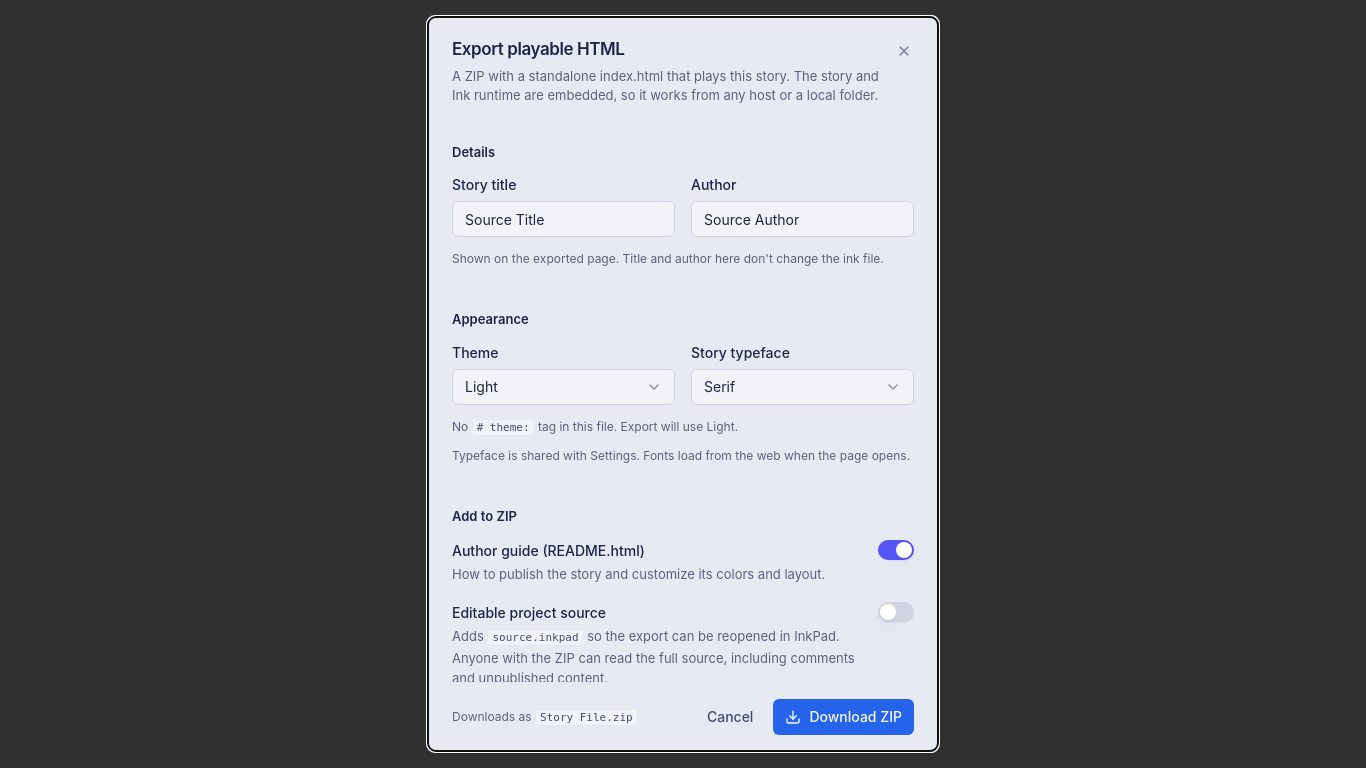
Test: PlayableHtmlExportDialog › shows set file theme button when user changes theme
Expected: the button "Set file theme" is not shown
Click the dropdown named "HTML export theme" at point(564, 386), box [452,368,675,404]
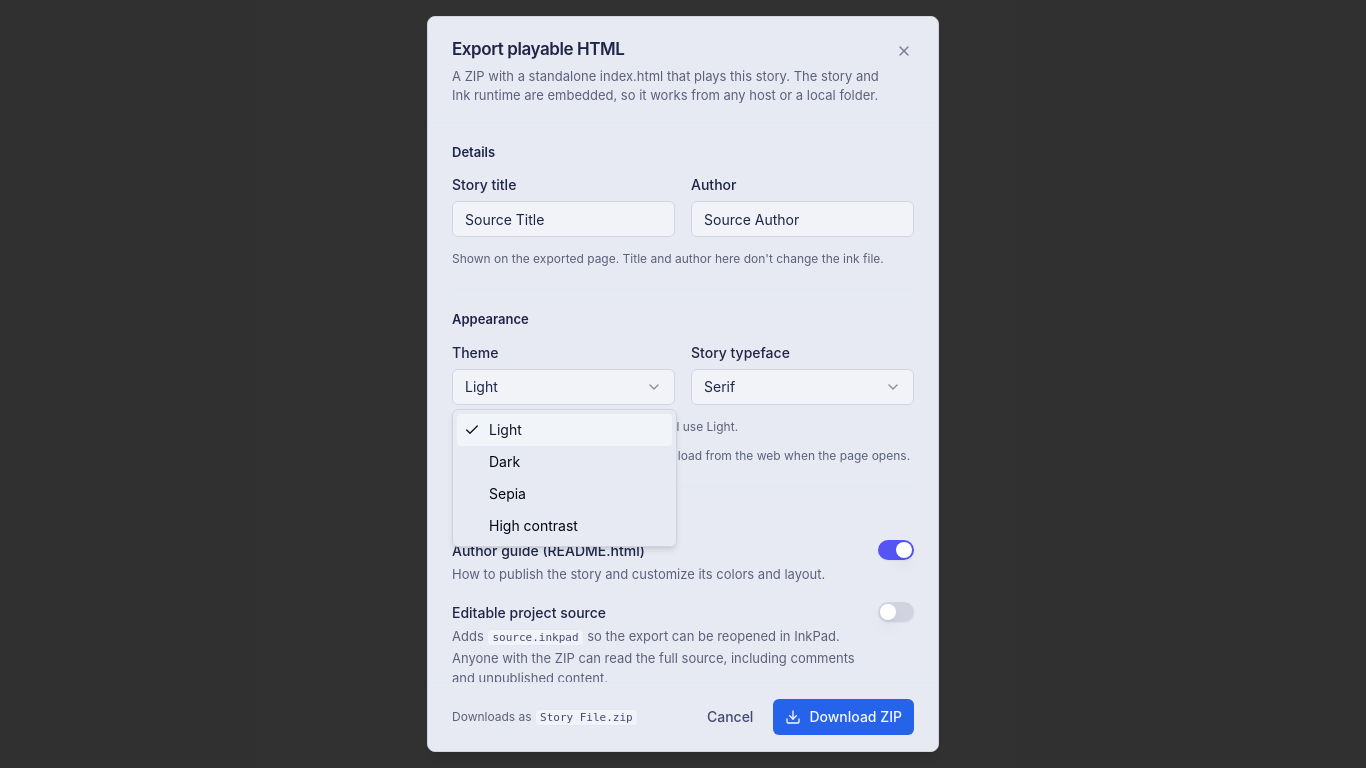
Click the option "Dark" at point(505, 462), box [489,453,520,470]
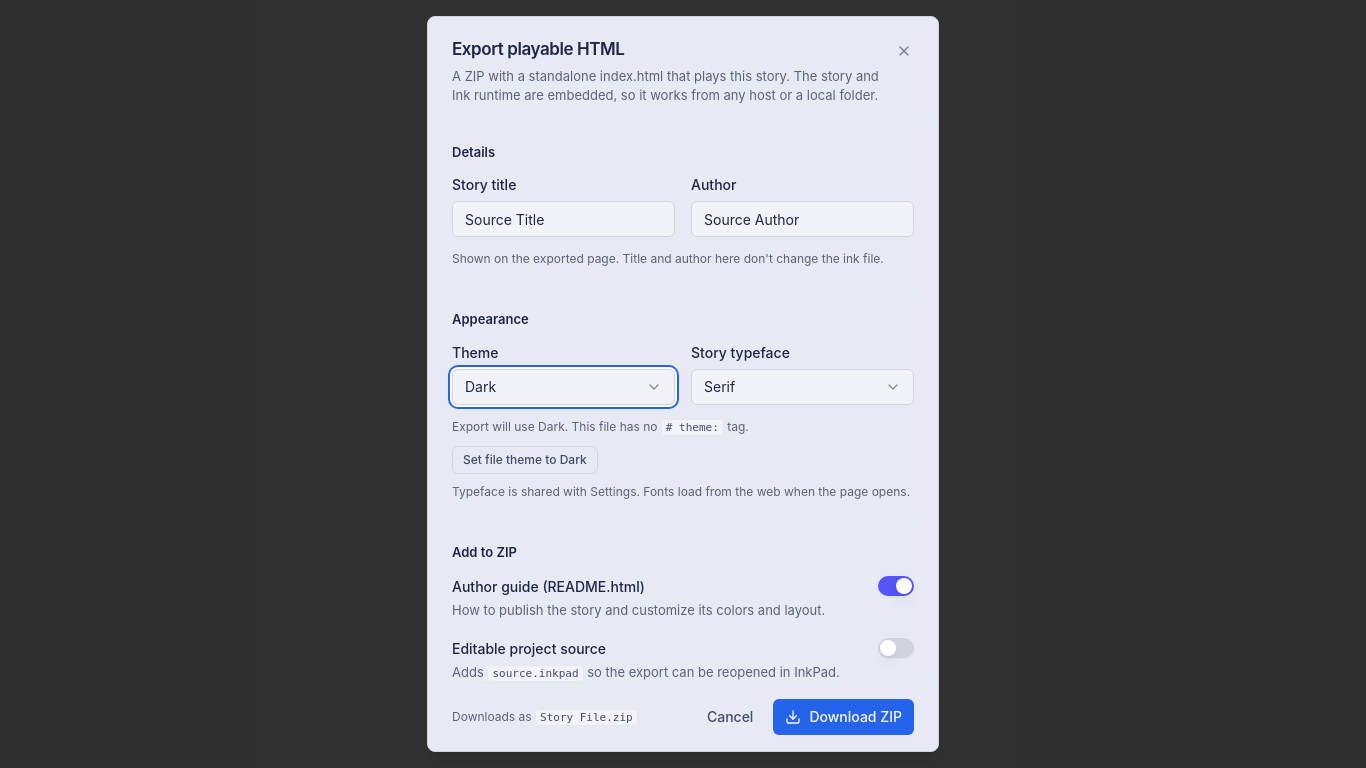
Result: the button "Set file theme to Dark" is shown
Click the button "Set file theme to Dark" at point(525, 460), box [452,446,598,474]
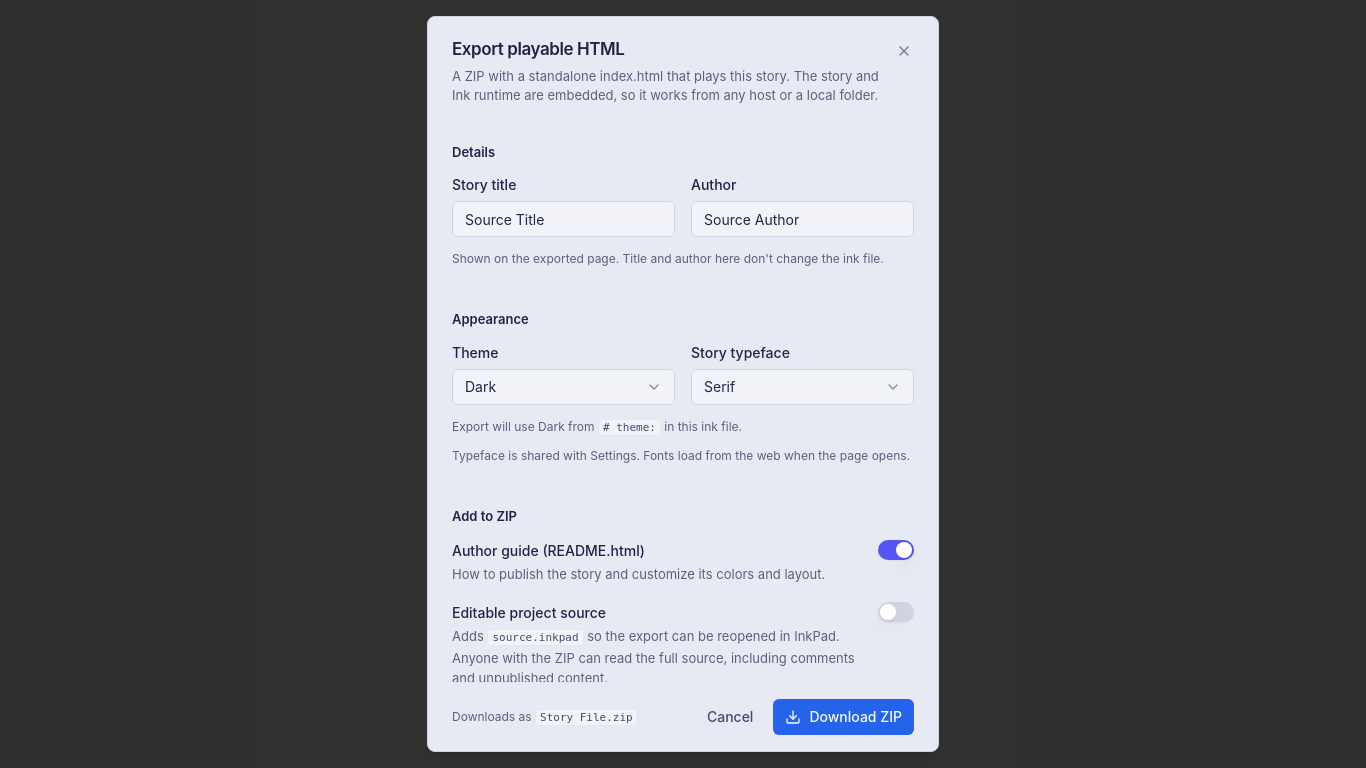
Result: the button "Set file theme" is gone
